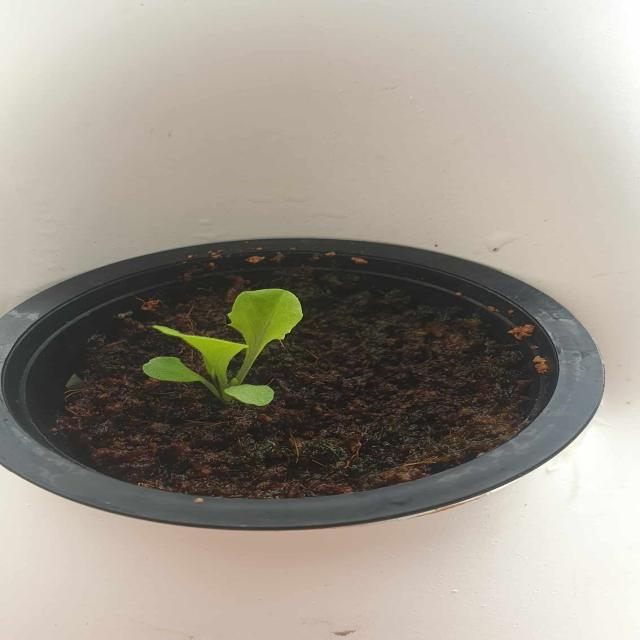Lettuce-Not-Ready-to-Harvest: (142, 289, 304, 409)
